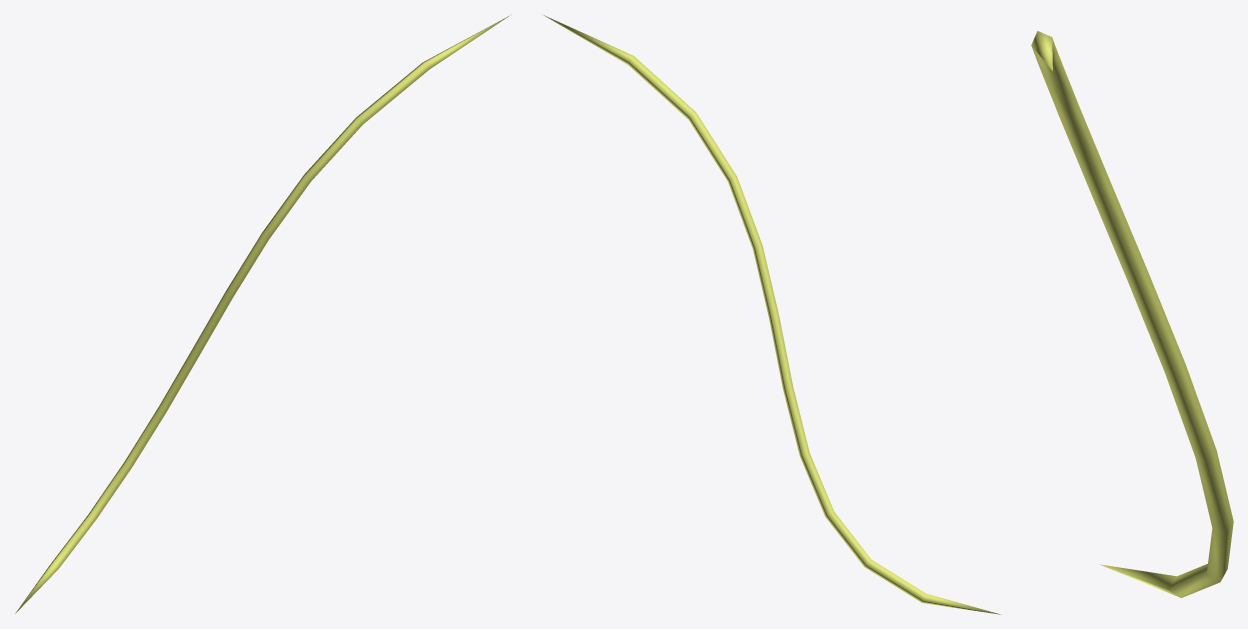
File: fiber.glb
The picture shows the model from 3 angles, left to right: view 1: azimuth 30°, elevation 25°; view 2: azimuth 150°, elevation 25°; view 3: azimuth 270°, elevation 25°; orthographic projection. The views are drawn at different scales.
Parts seen in each view (by area): view 1: NurbsPath; view 2: NurbsPath; view 3: NurbsPath.
Boxes of the visible parts, bbox=[...] form: NurbsPath: bbox=[15, 14, 511, 613]; NurbsPath: bbox=[542, 14, 1000, 614]; NurbsPath: bbox=[1031, 31, 1233, 597].
Size of the model in its own units: 1.04 by 1.01 by 0.1933.
